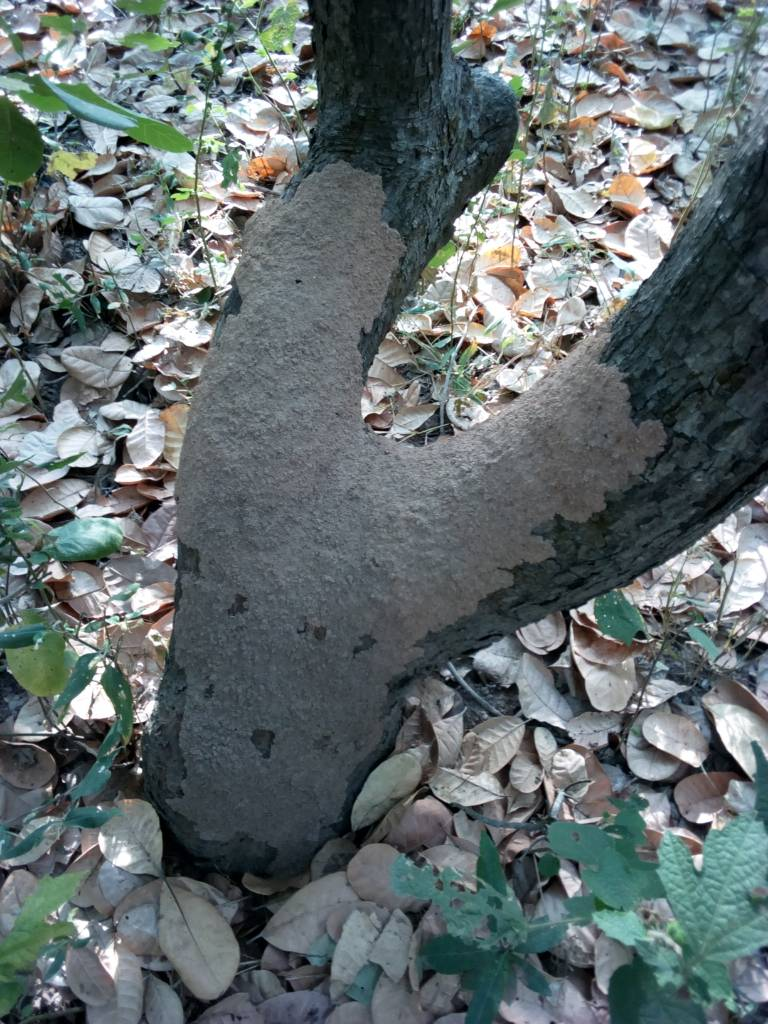Virose: (121, 152, 439, 871), (402, 335, 702, 639)
